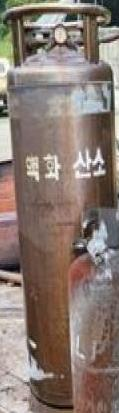cylinder: (0, 1, 119, 413)
